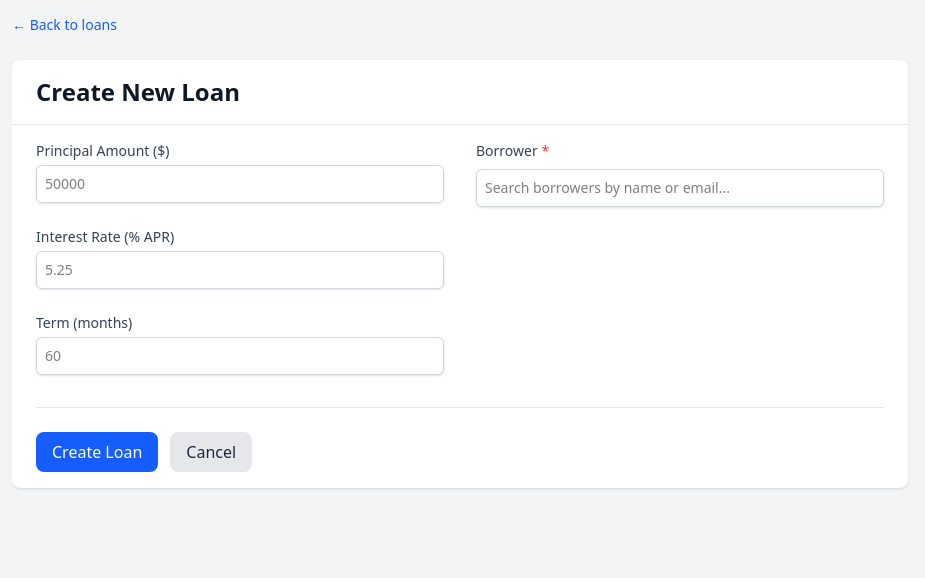
Test: LoanForm › Form Validation › clears error when user starts typing
// Submit empty form to trigger error
Click the button "Create Loan" at coordinates (97, 452), box [36, 432, 158, 472]
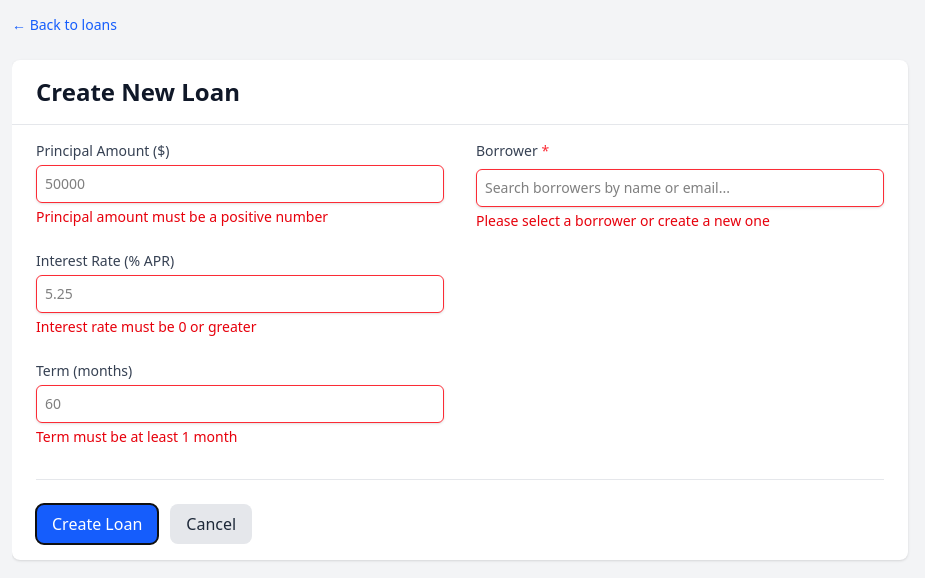
Check: the text "Principal amount must be a positive number" is shown, box [36, 207, 328, 226]
// Start typing to clear error
Type "5" into the number field labelled "Principal Amount ($)" at coordinates (240, 184), box [36, 165, 444, 203]
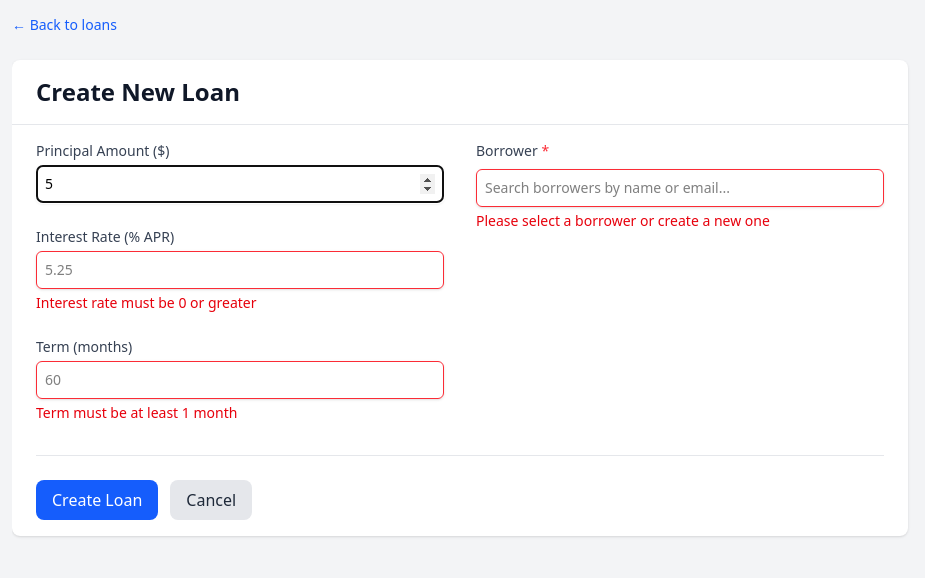
Check: the text "Principal amount must be a positive number" is gone
